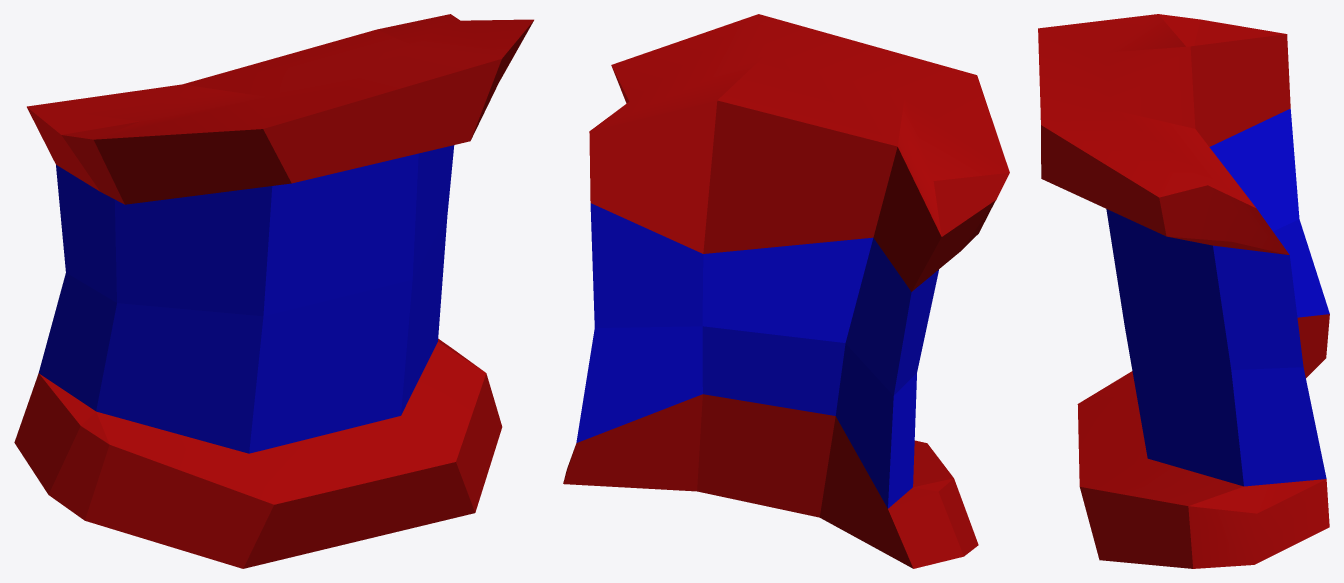
File: Chr_KneeAttachRight_Static_02.fbx
The picture shows the model from 3 angles, left to right: view 1: azimuth 30°, elevation 25°; view 2: azimuth 150°, elevation 25°; view 3: azimuth 270°, elevation 25°; orthographic projection. The views are drawn at different scales.
Visible parts, largest first — view 1: Chr_KneeAttachRight_02; view 2: Chr_KneeAttachRight_02; view 3: Chr_KneeAttachRight_02.
Part boxes in pixels (x1,y1,x2,y2): Chr_KneeAttachRight_02: (14, 14, 533, 568); Chr_KneeAttachRight_02: (563, 14, 1009, 568); Chr_KneeAttachRight_02: (1038, 14, 1329, 568).
Bounding box in the file's own units: 17.52 × 17.82 × 10.9.
